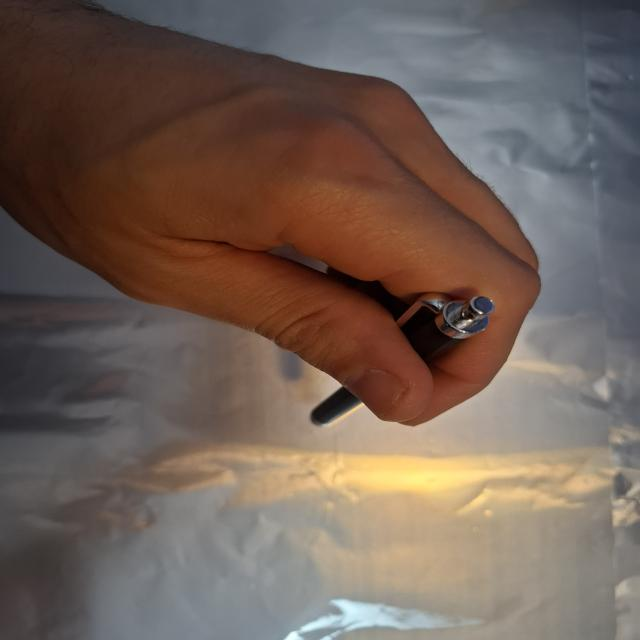glove_off: (5, 16, 542, 428)
